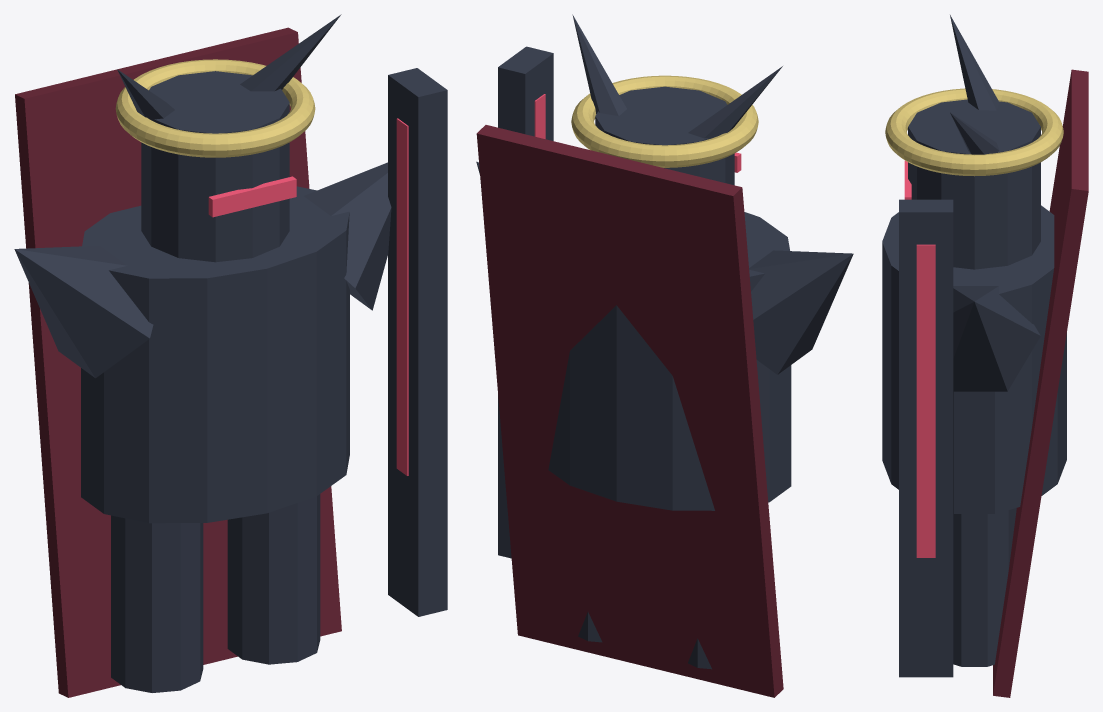
File: boss_malakor.glb
3 renders of one model, left to right at view 1: azimuth 30°, elevation 25°; view 2: azimuth 150°, elevation 25°; view 3: azimuth 270°, elevation 25°, orthographic. The views are drawn at different scales.
Visible parts, largest first — view 1: Cylinder, Cube, Cube.002, Cylinder.001, Cylinder.002, Cylinder.003, Cone.002, Torus, Cone.003, Cube.003, Cone.001, Cube.001 (+1 smaller); view 2: Cube, Cylinder, Cone.002, Torus, Cylinder.001, Cube.002, Cone.001, Cone; view 3: Cylinder, Cube.002, Cube, Cylinder.001, Cylinder.003, Cone.003, Torus, Cube.003, Cone, Cone.001.
Boxes of the visible parts, x1=… form: Cylinder: x1=81, y1=186, x2=349, y2=523; Cube: x1=15, y1=27, x2=341, y2=697; Cube.002: x1=388, y1=68, x2=447, y2=616; Cylinder.001: x1=141, y1=71, x2=289, y2=262; Cylinder.002: x1=111, y1=515, x2=203, y2=692; Cylinder.003: x1=227, y1=494, x2=320, y2=664; Cone.002: x1=14, y1=245, x2=153, y2=378; Torus: x1=115, y1=59, x2=315, y2=157; Cone.003: x1=304, y1=162, x2=391, y2=310; Cube.003: x1=396, y1=118, x2=408, y2=475; Cone.001: x1=240, y1=14, x2=341, y2=91; Cube.001: x1=208, y1=176, x2=296, y2=217; Cube: x1=476, y1=125, x2=783, y2=697; Cylinder: x1=548, y1=212, x2=791, y2=510; Cone.002: x1=749, y1=250, x2=853, y2=374; Torus: x1=571, y1=75, x2=758, y2=167; Cylinder.001: x1=595, y1=86, x2=734, y2=185; Cube.002: x1=498, y1=46, x2=553, y2=558; Cone.001: x1=572, y1=14, x2=626, y2=115; Cone: x1=688, y1=66, x2=782, y2=139; Cylinder: x1=882, y1=205, x2=1066, y2=513; Cube.002: x1=899, y1=199, x2=953, y2=677; Cube: x1=993, y1=69, x2=1088, y2=697; Cylinder.001: x1=908, y1=99, x2=1040, y2=269; Cylinder.003: x1=953, y1=508, x2=1016, y2=666; Cone.003: x1=953, y1=286, x2=1040, y2=391; Torus: x1=885, y1=88, x2=1063, y2=176; Cube.003: x1=916, y1=244, x2=935, y2=557; Cone: x1=950, y1=15, x2=999, y2=110; Cone.001: x1=950, y1=112, x2=999, y2=154.
Bounding box in the file's own units: 3.44 × 5.26 × 1.71.
